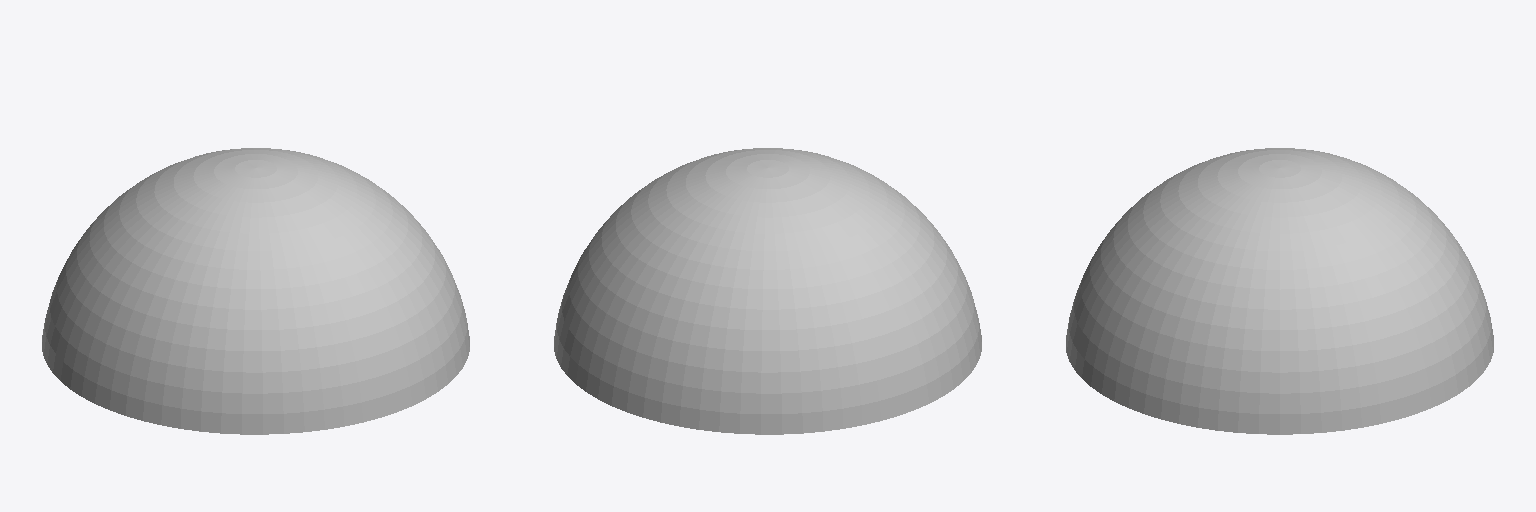
Rendered from DomeGlass.obj.
The picture shows the model from 3 angles: view 1: azimuth 30°, elevation 25°; view 2: azimuth 150°, elevation 25°; view 3: azimuth 270°, elevation 25°; orthographic projection.
Parts seen in each view (by area): view 1: Sphere; view 2: Sphere; view 3: Sphere.
Boxes of the visible parts, x1,y1,x2,y2 form: Sphere: [42, 148, 469, 434]; Sphere: [554, 148, 981, 434]; Sphere: [1066, 148, 1493, 434].
Bounding box in the file's own units: 199 × 90.2 × 199.